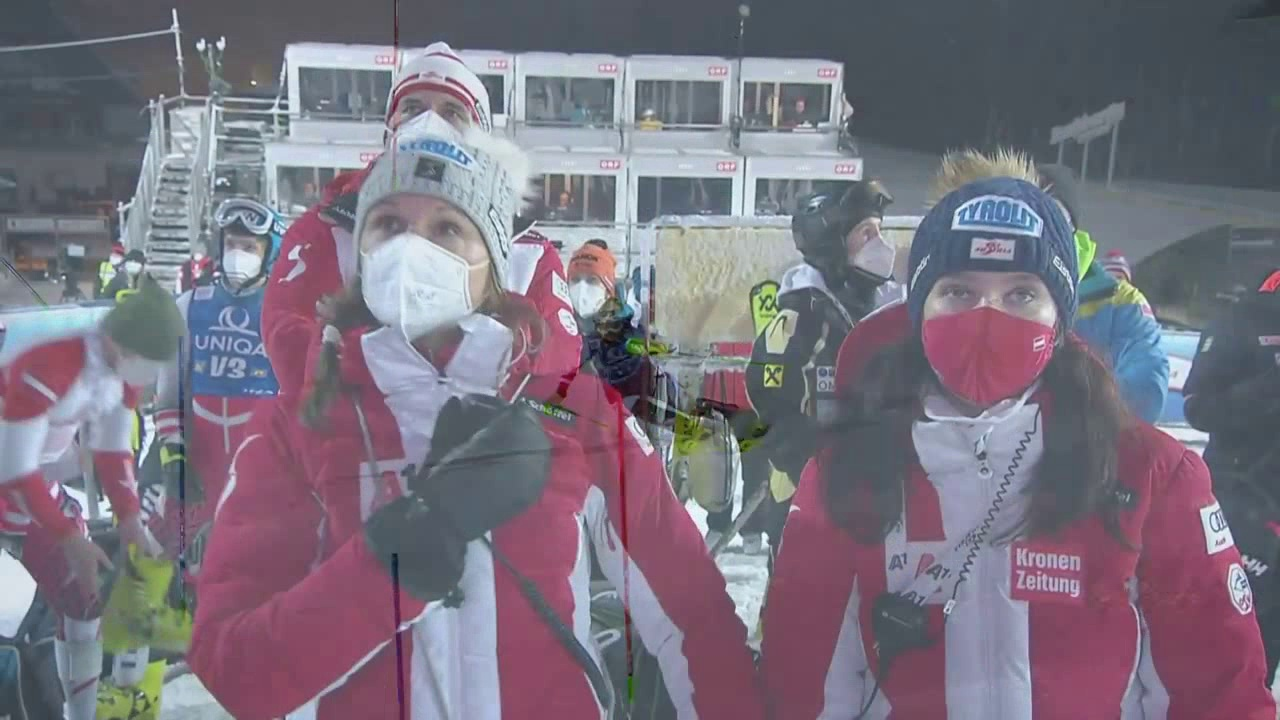kronenzeitung: (1013, 539, 1084, 606)
uniqa: (199, 307, 261, 351)
